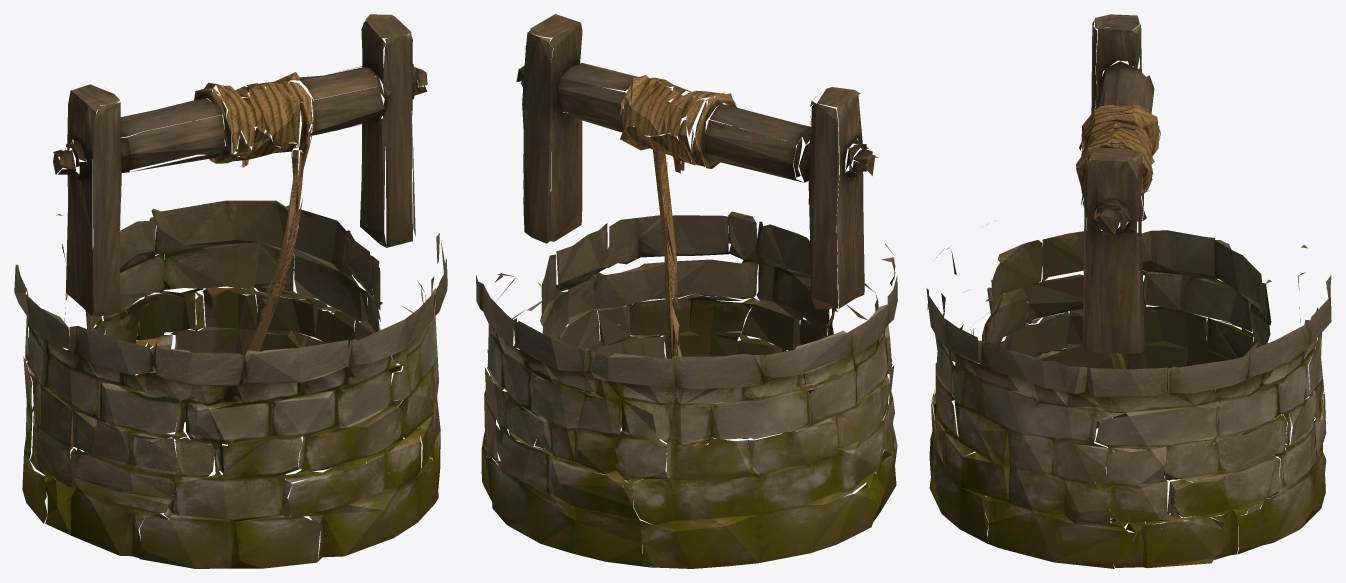
File: well.glb
3 renders of one model, left to right at view 1: azimuth 30°, elevation 25°; view 2: azimuth 150°, elevation 25°; view 3: azimuth 270°, elevation 25°, orthographic. The views are drawn at different scales.
Visible parts, largest first — view 1: textured_mesh.obj.003; view 2: textured_mesh.obj.003; view 3: textured_mesh.obj.003.
Boxes of the visible parts, <box> form: textured_mesh.obj.003: <box>14,14,447,568</box>; textured_mesh.obj.003: <box>476,14,897,568</box>; textured_mesh.obj.003: <box>926,14,1331,568</box>.
Bounding box in the file's own units: 1.83 × 1.97 × 1.81.
1 material, 1 textured.
